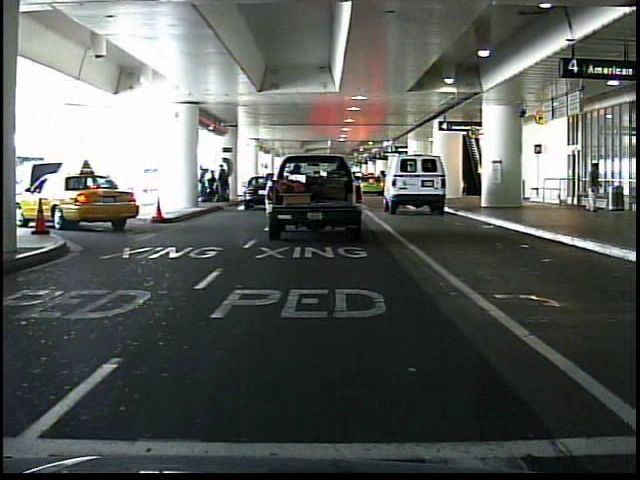person: (581, 160, 604, 215)
